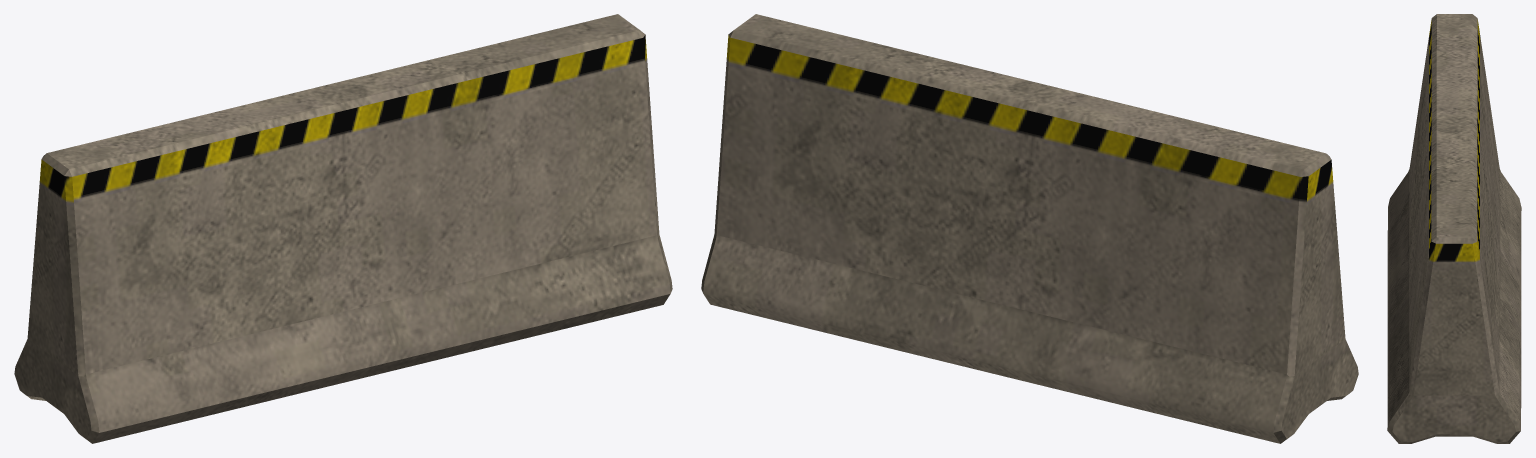
Rendered from sm_stob_002.fbx.
3 views of the same model, side by side, from view 1: azimuth 30°, elevation 25°; view 2: azimuth 150°, elevation 25°; view 3: azimuth 270°, elevation 25° (orthographic). The views are drawn at different scales.
Visible parts, largest first — view 1: sm_stob_002; view 2: sm_stob_002; view 3: sm_stob_002.
Boxes of the visible parts, x1,y1,x2,y2 form: sm_stob_002: (14,14,672,443); sm_stob_002: (701,14,1358,443); sm_stob_002: (1387,14,1521,443).
Size of the model in its own units: 1.07 by 0.4519 by 0.2658.
1 material, 1 textured.
